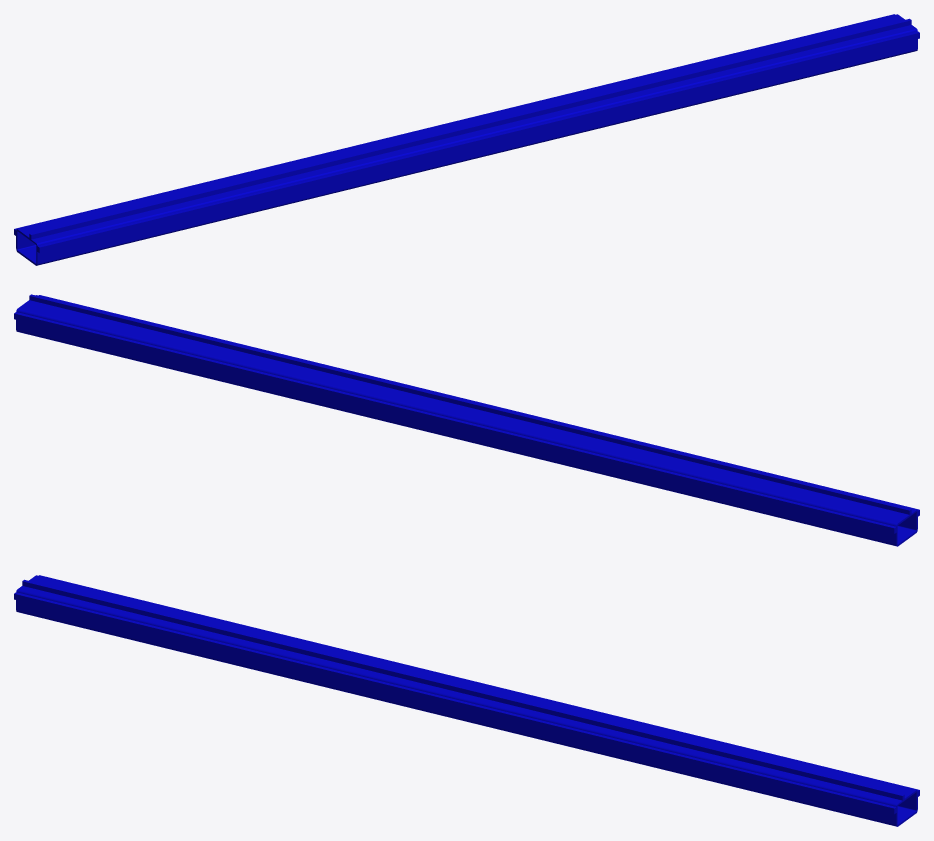
File: rail_structure.dae
3 renders of one model, top to bottom at view 1: azimuth 30°, elevation 25°; view 2: azimuth 150°, elevation 25°; view 3: azimuth 330°, elevation 25°, orthographic.
Parts seen in each view (by area): view 1: Rail_Structure_Rail; view 2: Rail_Structure_Rail; view 3: Rail_Structure_Rail.
Boxes of the visible parts, box(x1,y1,x2,y2) form: Rail_Structure_Rail: box(14, 14, 919, 265); Rail_Structure_Rail: box(14, 294, 919, 546); Rail_Structure_Rail: box(14, 575, 919, 826).
Size of the model in its own units: 6 by 0.301 by 0.1775.
